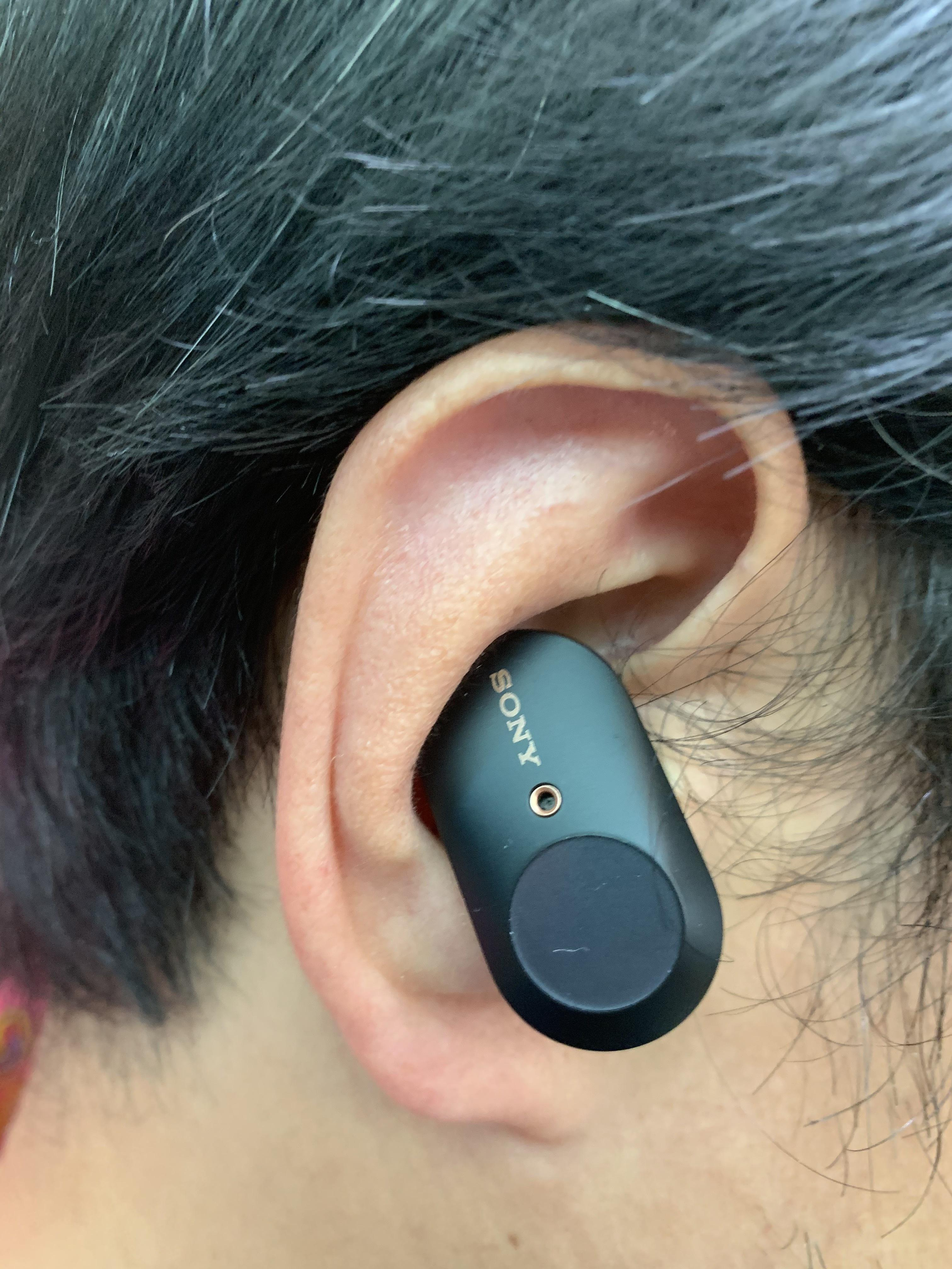earphone: (389, 629, 772, 1061)
